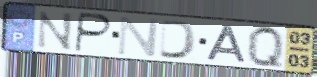A: (205, 24, 249, 64)
D: (157, 19, 199, 61)
N: (116, 15, 162, 57), (35, 10, 75, 52)
P: (73, 11, 115, 54)
Q: (246, 24, 286, 71)
